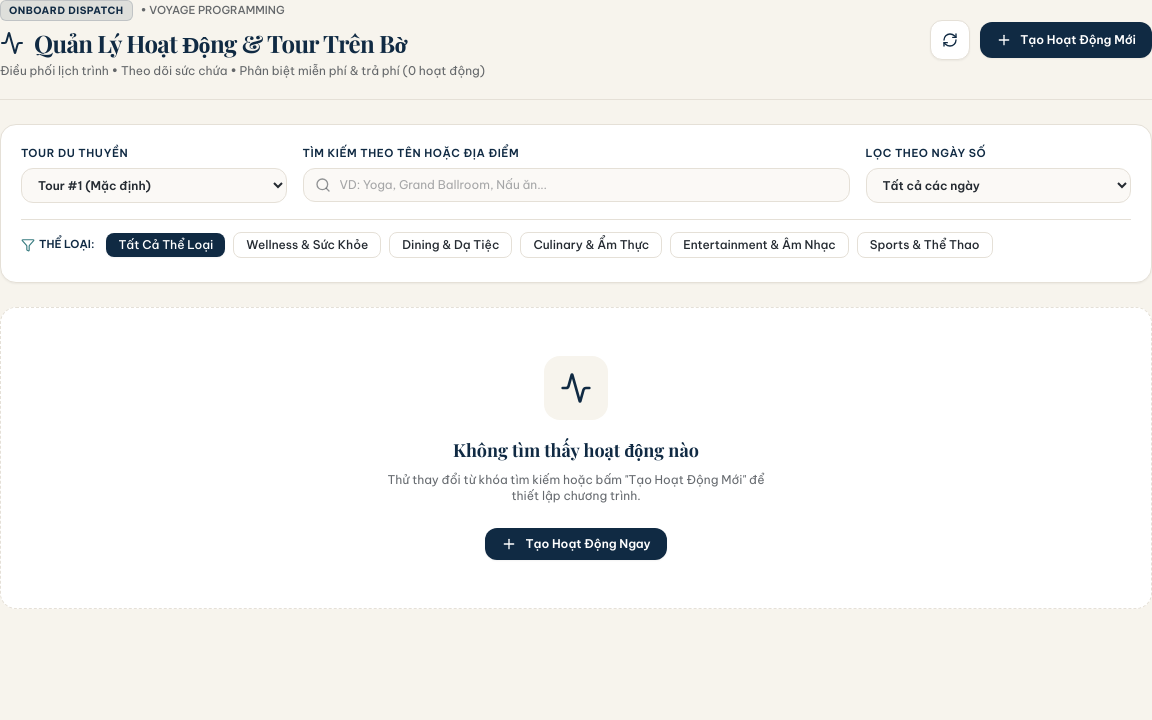
it: ActivitiesPage Component Tests (KAN-139) › opens ActivityModal when clicking "Tạo Hoạt Động Mới"
What coordinates should you click on to do the following:
click the button "Tạo Hoạt Động Mới"
I would click on:
 (1066, 40)
Its box is [980,22,1151,58].
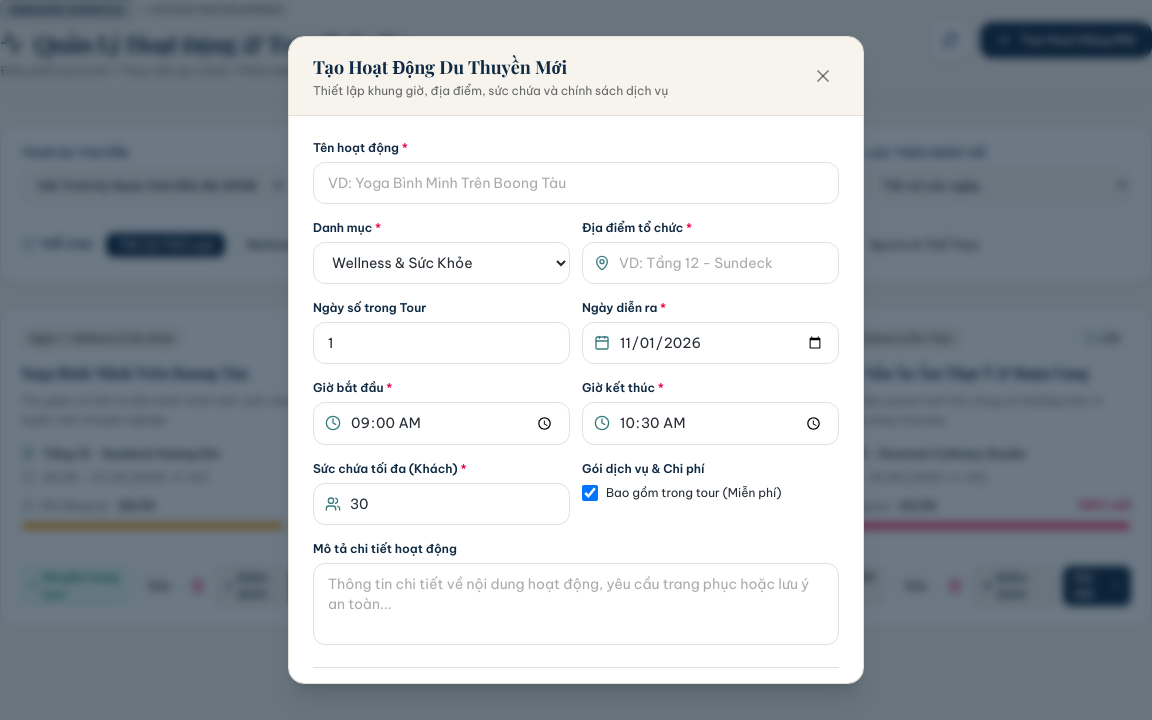
expect the heading "Tạo Hoạt Động Du Thuyền Mới" is shown: met, box [313,55,567,79]
expect the field with placeholder "VD: Yoga Bình Minh Trên Boong Tàu" is shown: met, box [313,162,839,204]
